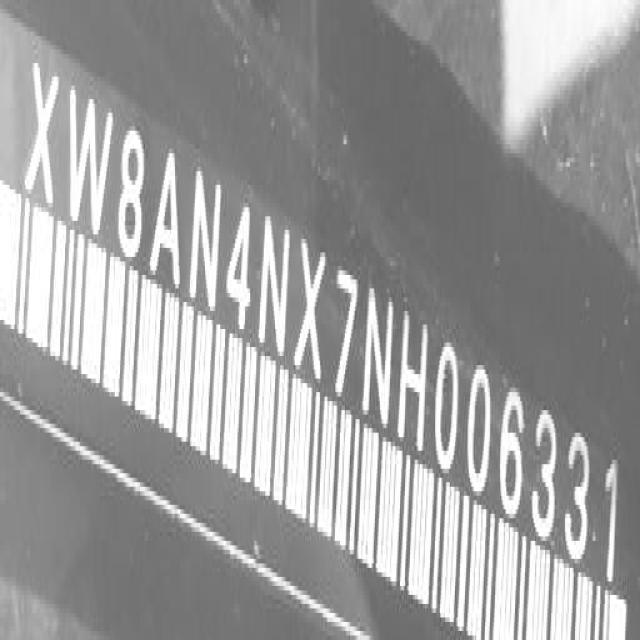0: (433, 332, 460, 494), (465, 355, 492, 510)
1: (602, 446, 624, 598)
3: (564, 418, 590, 572), (531, 406, 557, 548)
4: (226, 184, 254, 343)
6: (498, 368, 526, 523)
7: (329, 263, 359, 415)
8: (118, 118, 144, 268)
A: (149, 135, 183, 296)
H: (395, 305, 431, 458)
N: (188, 156, 224, 319), (257, 198, 290, 368), (363, 274, 395, 436)
W: (69, 79, 114, 242)
X: (27, 52, 57, 213), (294, 222, 324, 382)
